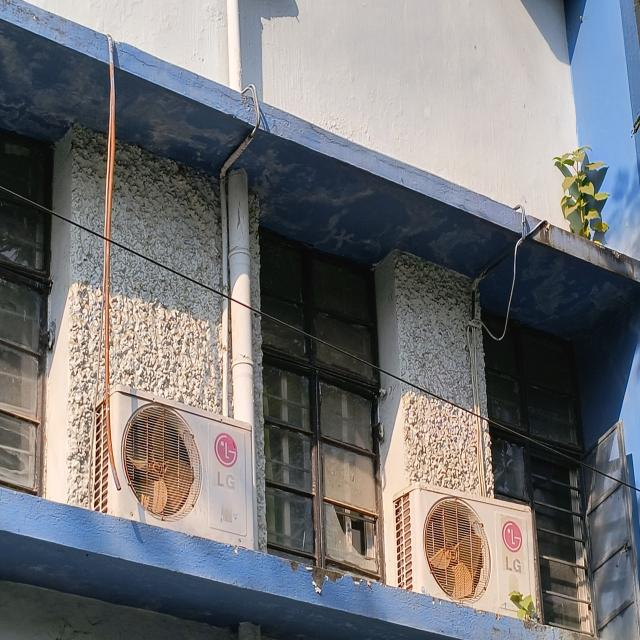Broken window pane: (260, 347, 386, 585)
Crack: (262, 108, 470, 191), (111, 44, 252, 105)
Moss growth due to damping: (558, 128, 614, 251)
Paint Peeling: (290, 561, 346, 594), (350, 576, 360, 581)
pollution -moisture induced blackening: (527, 216, 640, 283)
